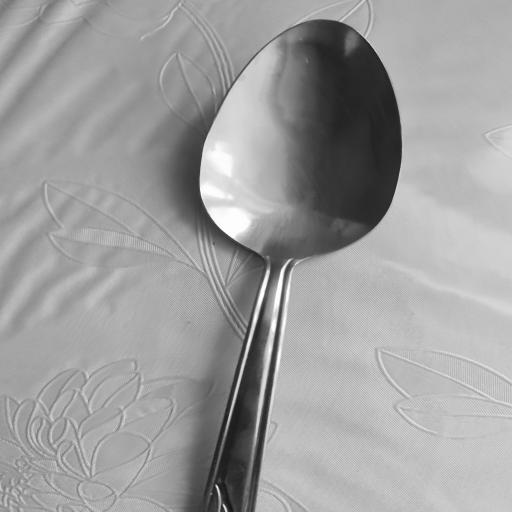spoon: (177, 24, 398, 512)
